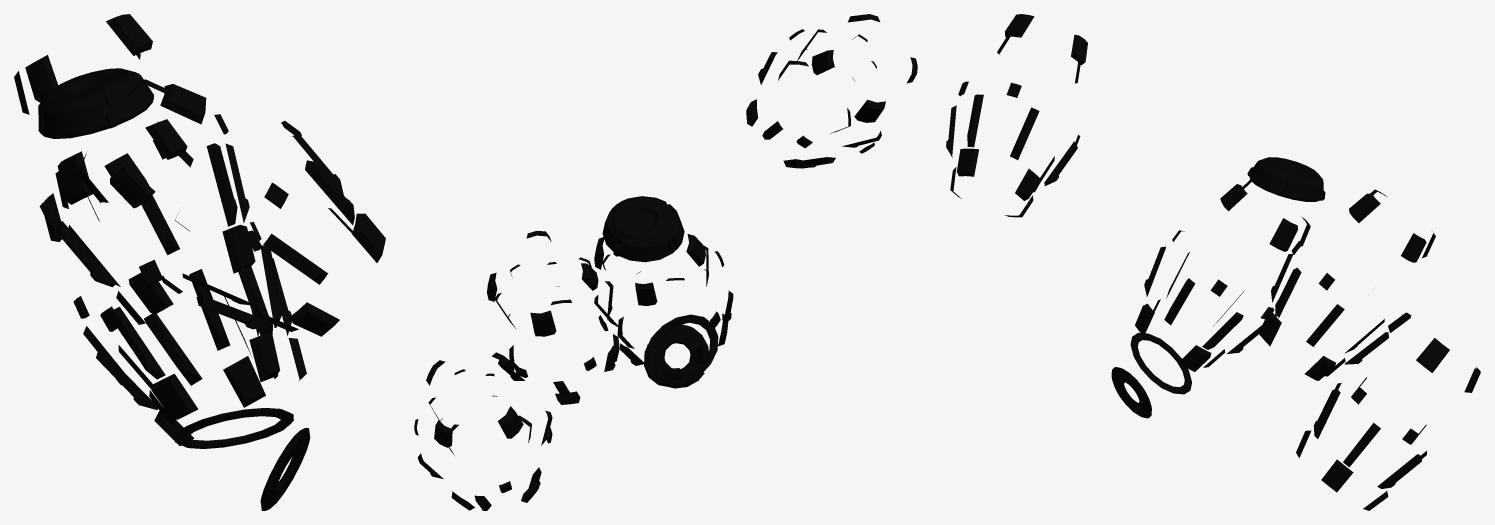
The model's file is prop_static_yao_container_02_04.glb.
3 views of the same model, side by side, from view 1: azimuth 30°, elevation 25°; view 2: azimuth 150°, elevation 25°; view 3: azimuth 270°, elevation 25° (orthographic). The views are drawn at different scales.
Parts seen in each view (by area): view 1: yao_container_02_04_LOD0; view 2: yao_container_02_04_LOD0; view 3: yao_container_02_04_LOD0.
Part boxes in pixels (x1,y1,x2,y2): yao_container_02_04_LOD0: (14,14,385,510); yao_container_02_04_LOD0: (414,14,917,510); yao_container_02_04_LOD0: (946,14,1480,510).
Size of what is drawn, in the model's own units: 3.42 by 4.53 by 5.55.
Materials: 1 (1 with a texture image).
